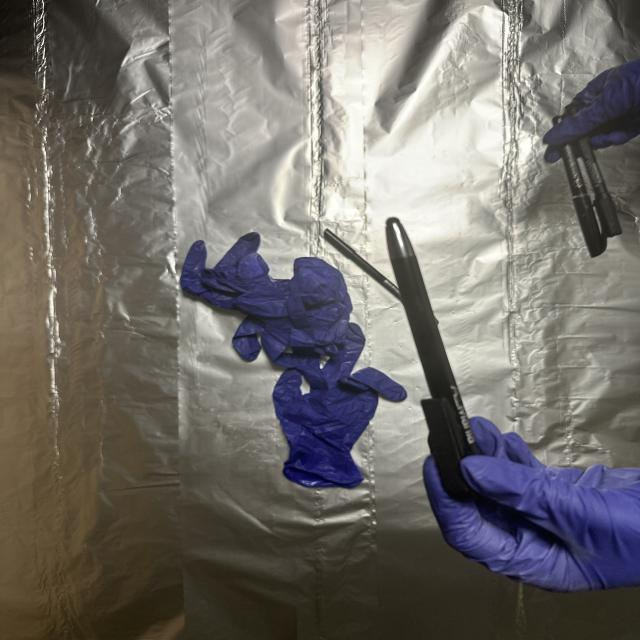gloves_contaminated: (423, 418, 640, 592), (543, 59, 640, 163)
